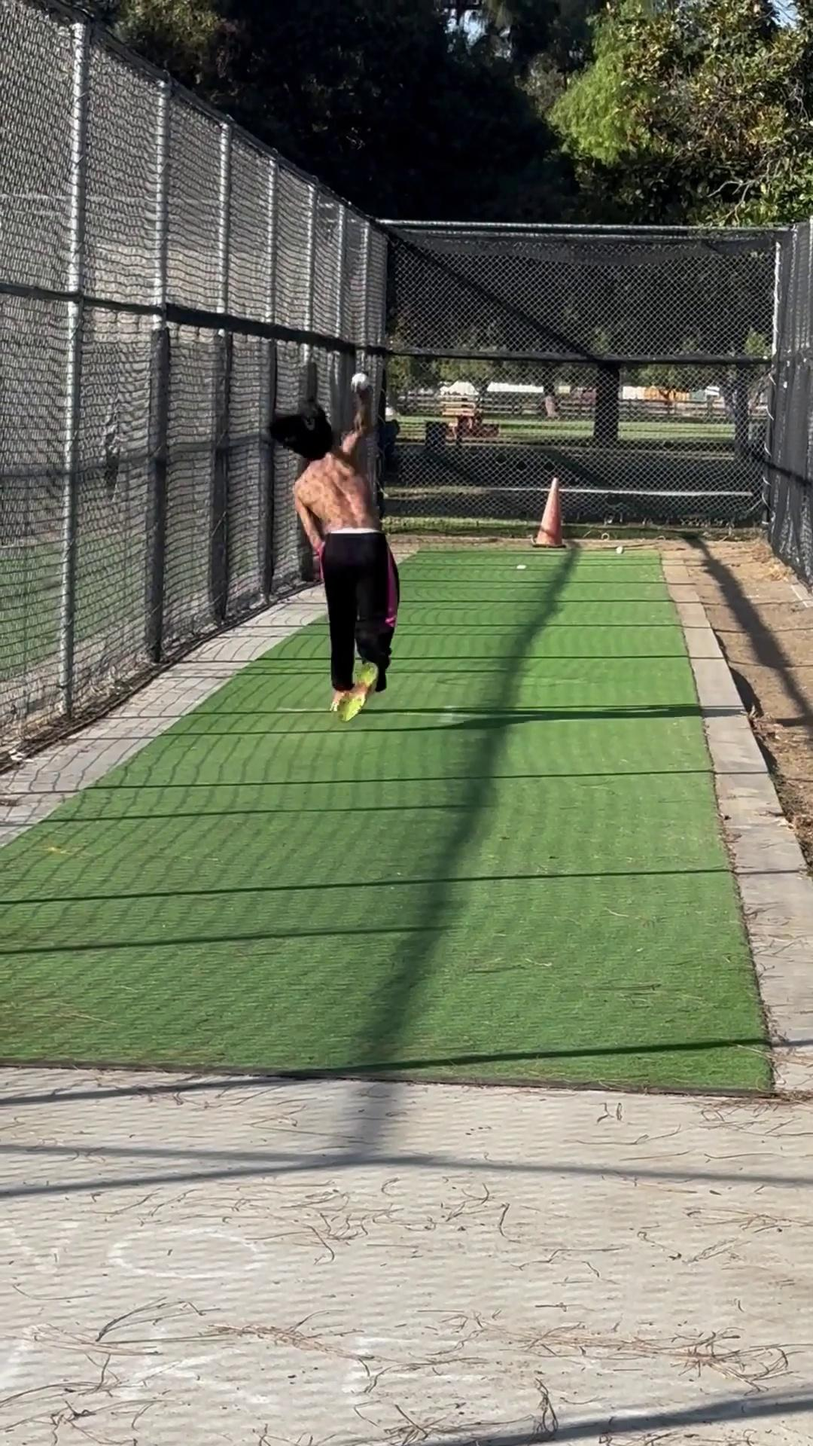ball: (343, 368, 381, 397)
